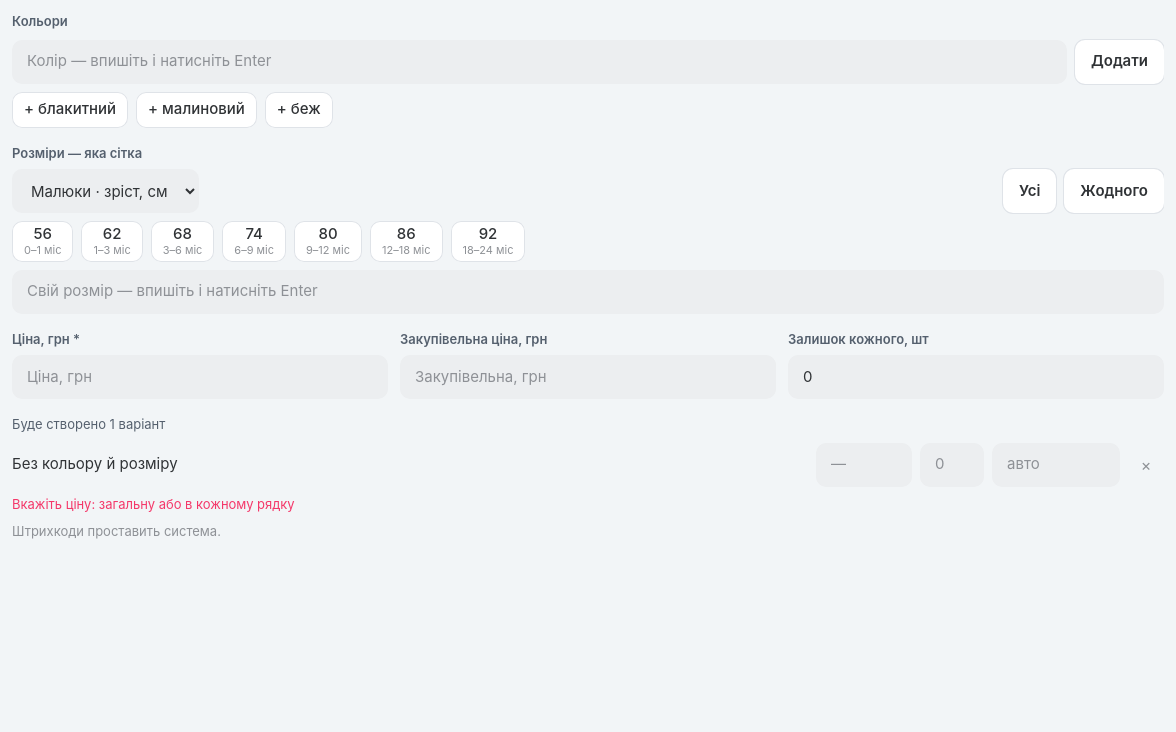
it: VariantMatrix — the scales › gives an adult size no hint
Select "Дорослі (XS–XXL)" in the dropdown named "Сітка розмірів" at point(106, 191), box [12,169,199,213]
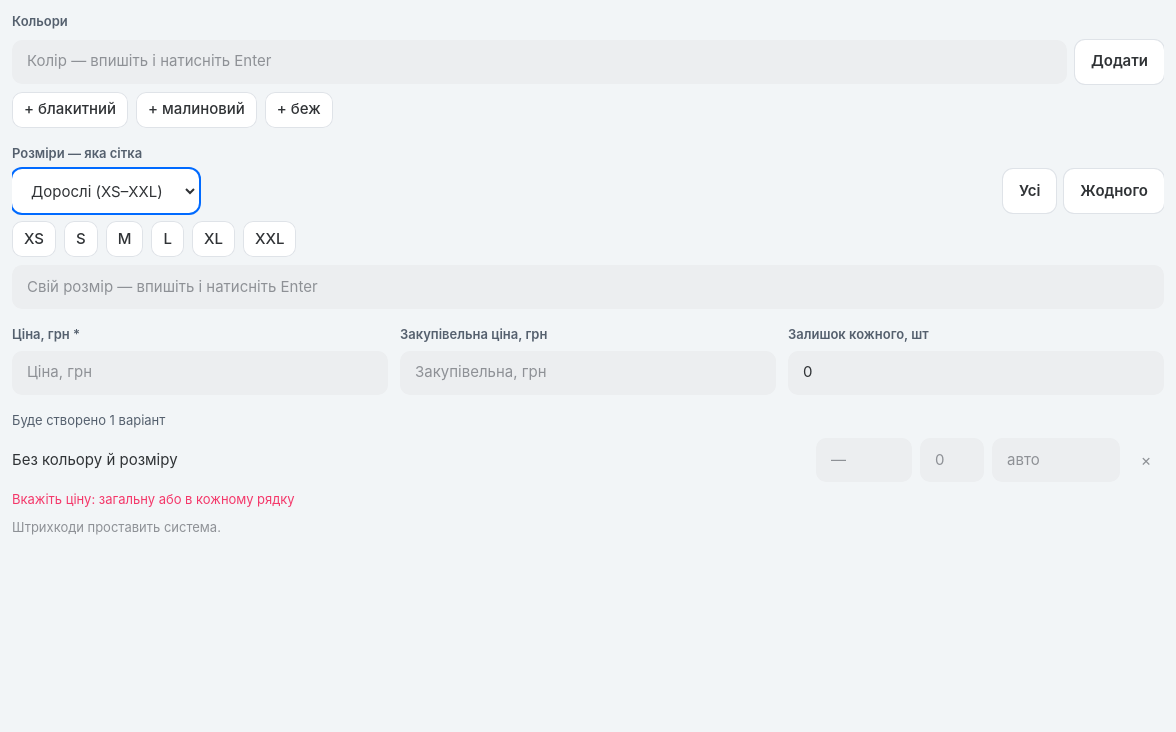
Expected: the button "XS" is shown, [12,221,56,257]
Expected: the button "S" is shown, [64,221,98,257]
Expected: the button "M" is shown, [106,221,144,257]
